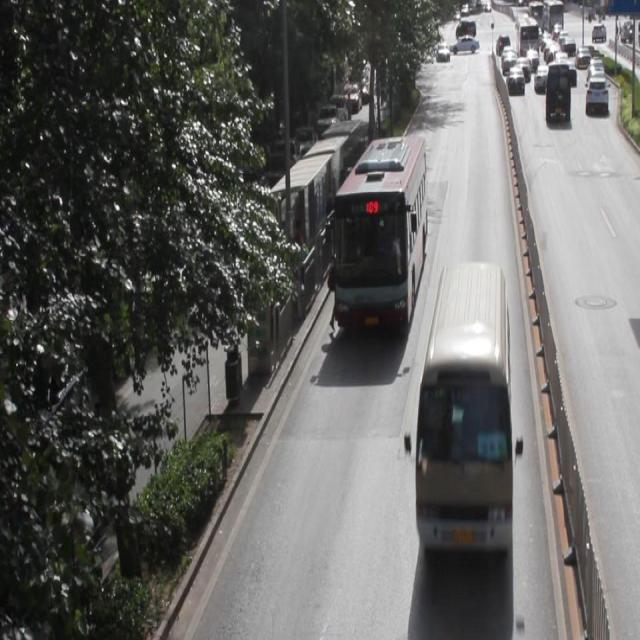truck: (416, 261, 511, 548)
van: (331, 135, 424, 328)
